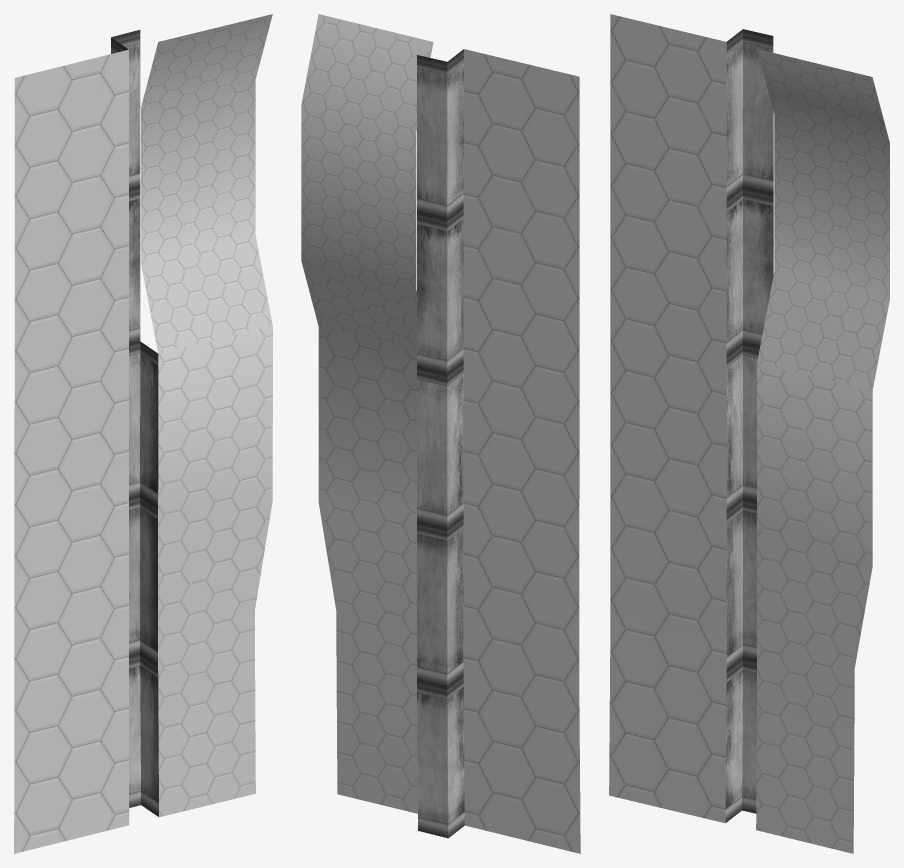
File: Wall003.fbx
3 renders of one model, left to right at view 1: azimuth 30°, elevation 25°; view 2: azimuth 150°, elevation 25°; view 3: azimuth 330°, elevation 25°, orthographic.
Visible parts, largest first — view 1: Wall003; view 2: Wall003; view 3: Wall003.
Boxes of the visible parts, x1,y1,x2,y2 form: Wall003: (14,14,272,853); Wall003: (301,14,580,853); Wall003: (609,14,889,853).
Bounding box in the file's own units: 222 × 632 × 27.49.
